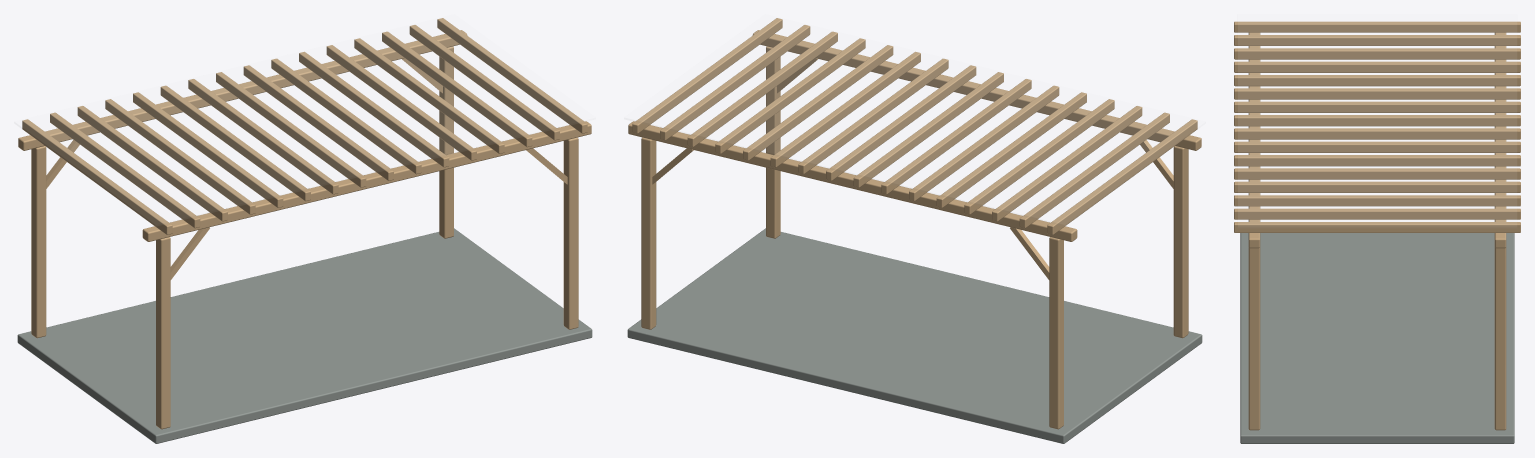
The model's file is public-library-and-reading-garden-public-library-and-r-778a5c21__30902.glb.
The picture shows the model from 3 angles, left to right: view 1: azimuth 30°, elevation 25°; view 2: azimuth 150°, elevation 25°; view 3: azimuth 270°, elevation 25°; orthographic projection.
Visible parts, largest first — view 1: public-library-and-reading-garden-reading-garden-pergola; view 2: public-library-and-reading-garden-reading-garden-pergola; view 3: public-library-and-reading-garden-reading-garden-pergola.
Boxes of the visible parts, x1,y1,x2,y2 form: public-library-and-reading-garden-reading-garden-pergola: (17, 18, 592, 443); public-library-and-reading-garden-reading-garden-pergola: (627, 18, 1202, 443); public-library-and-reading-garden-reading-garden-pergola: (1234, 21, 1520, 443).
Size of the model in its own units: 6.1 by 2.91 by 3.45.
